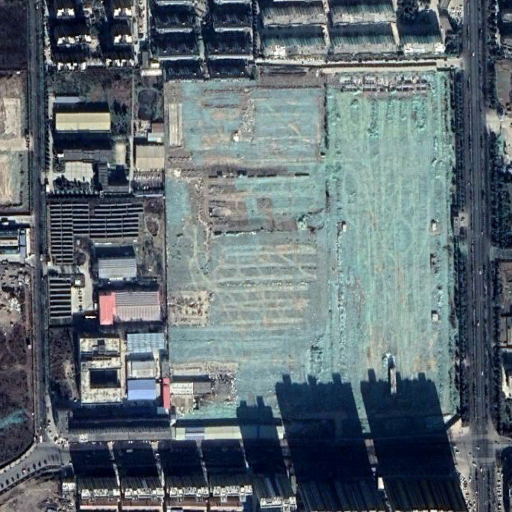cw: (163, 70, 460, 433)
